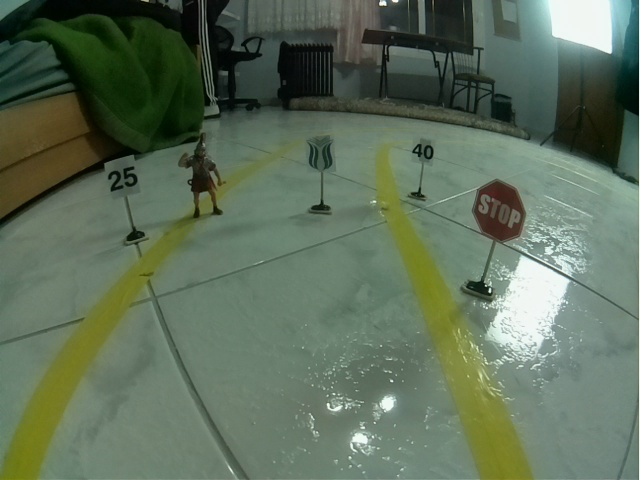Person: (177, 132, 229, 219)
Speed Limit 25: (103, 154, 141, 200)
Speed Limit 40: (410, 136, 436, 167)
Stop: (471, 178, 527, 245)
Subu: (303, 133, 337, 173)
